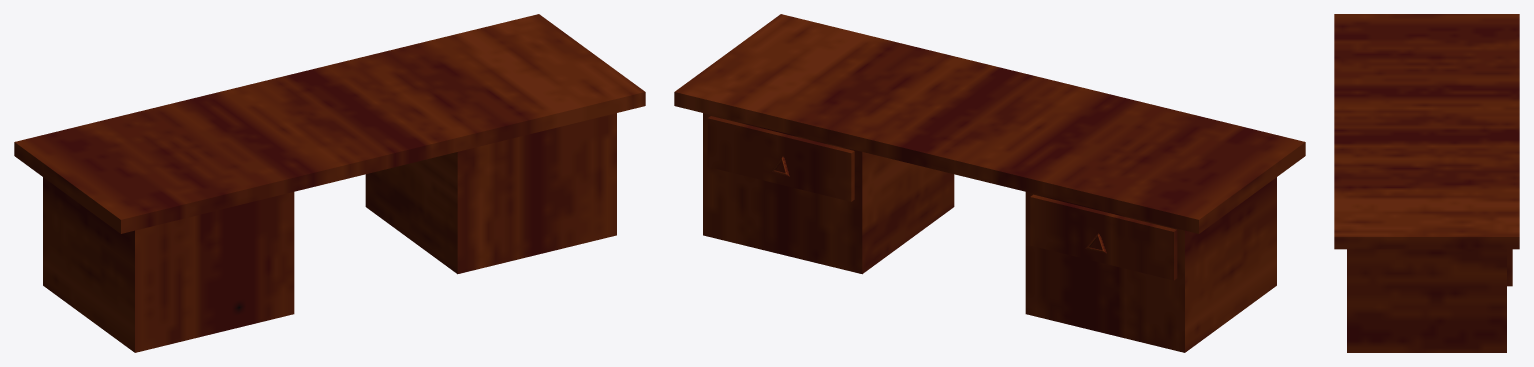
File: Worktable.fbx
3 views of the same model, side by side, from view 1: azimuth 30°, elevation 25°; view 2: azimuth 150°, elevation 25°; view 3: azimuth 270°, elevation 25° (orthographic). The views are drawn at different scales.
Parts seen in each view (by area): view 1: Cube; view 2: Cube; view 3: Cube.
Part boxes in pixels (x1,y1,x2,y2): Cube: (14, 14, 645, 352); Cube: (674, 14, 1305, 352); Cube: (1334, 14, 1519, 352).
Bounding box in the file's own units: 330 × 86.2 × 116.
1 material, 1 textured.
